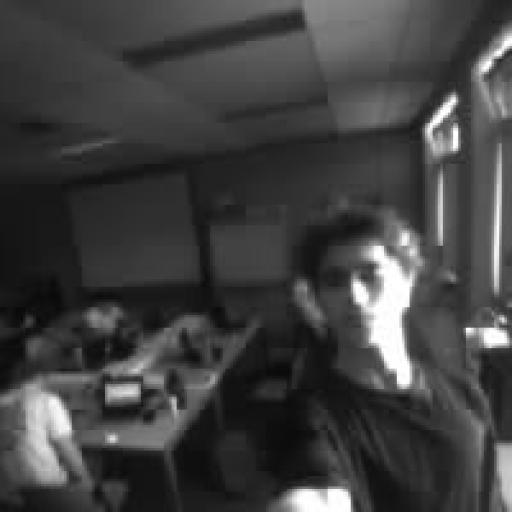human: (269, 205, 504, 511), (0, 336, 99, 509), (410, 267, 471, 373), (77, 287, 135, 353)
